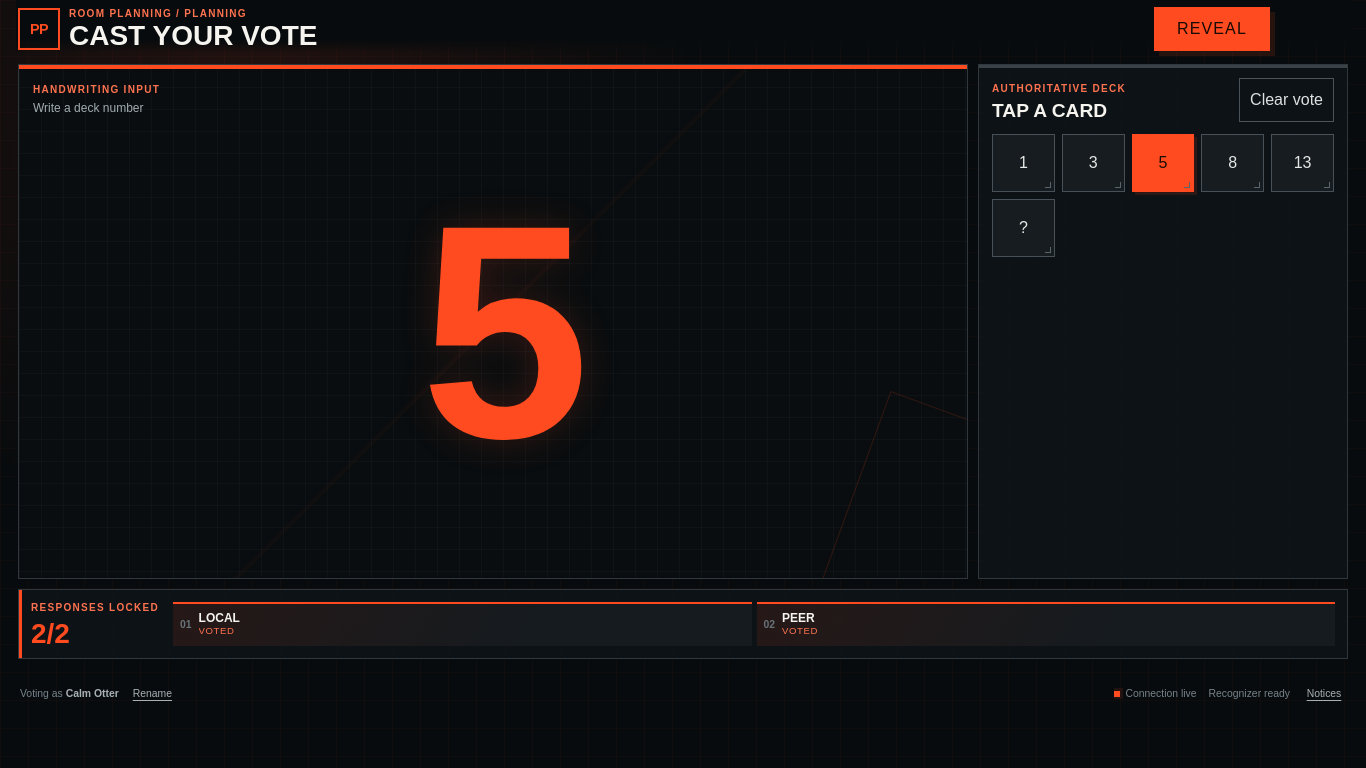
Scenario: VotingApp voting controls › treats a pending retract as a missing local response
Click the button "Clear vote" at (1287, 100), box x1=1239 y1=78 x2=1334 y2=122
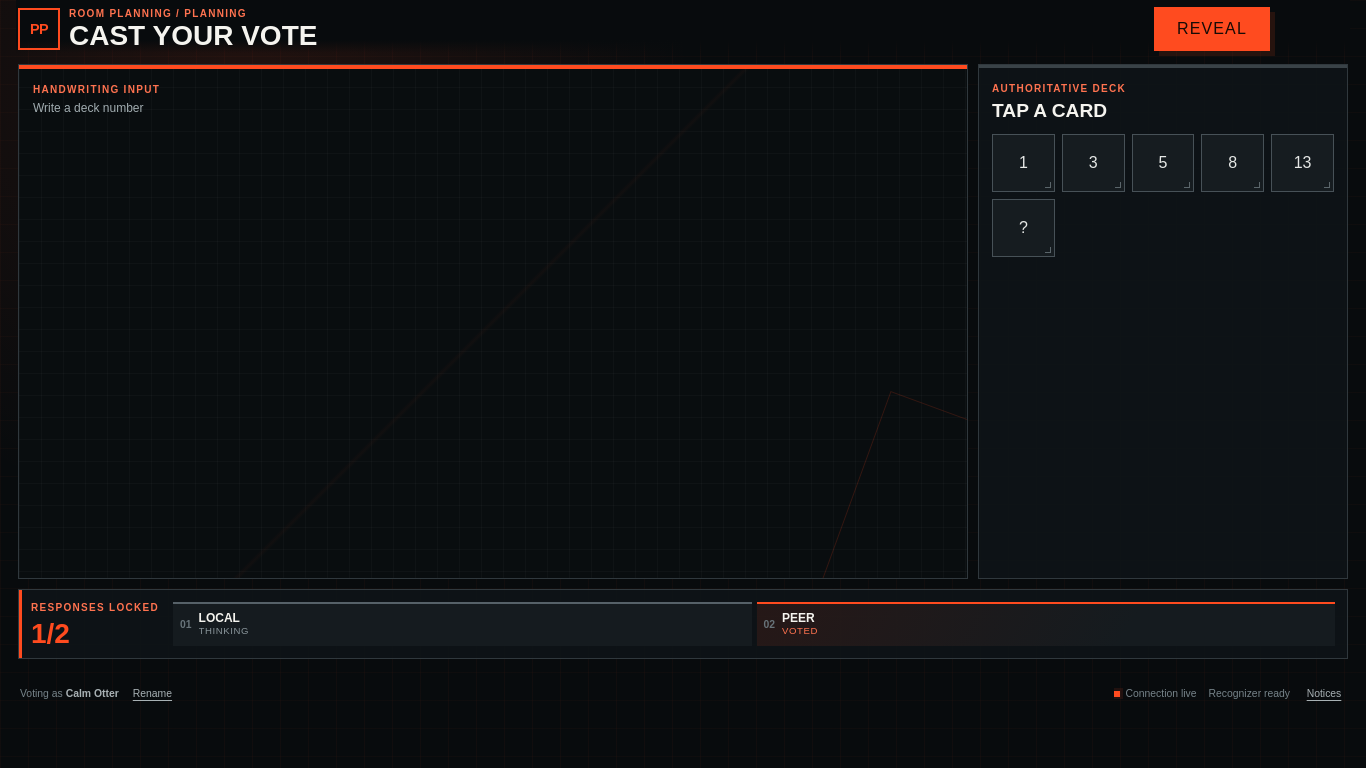
Expected: the text "1/2" is shown, x1=31 y1=623 x2=70 y2=645
Click the button "Reveal" at (1212, 29), box x1=1154 y1=7 x2=1270 y2=51
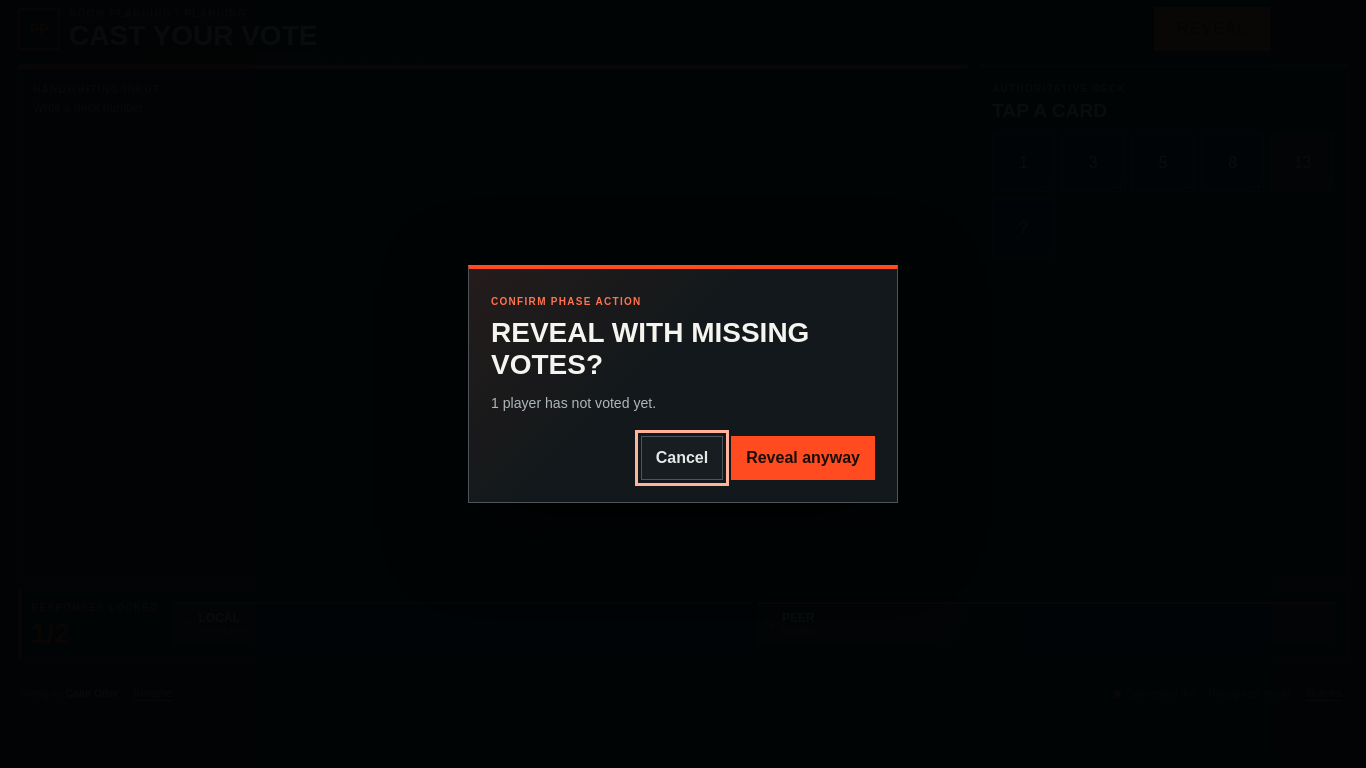
Expected: the dialog "Reveal with missing votes?" is shown
